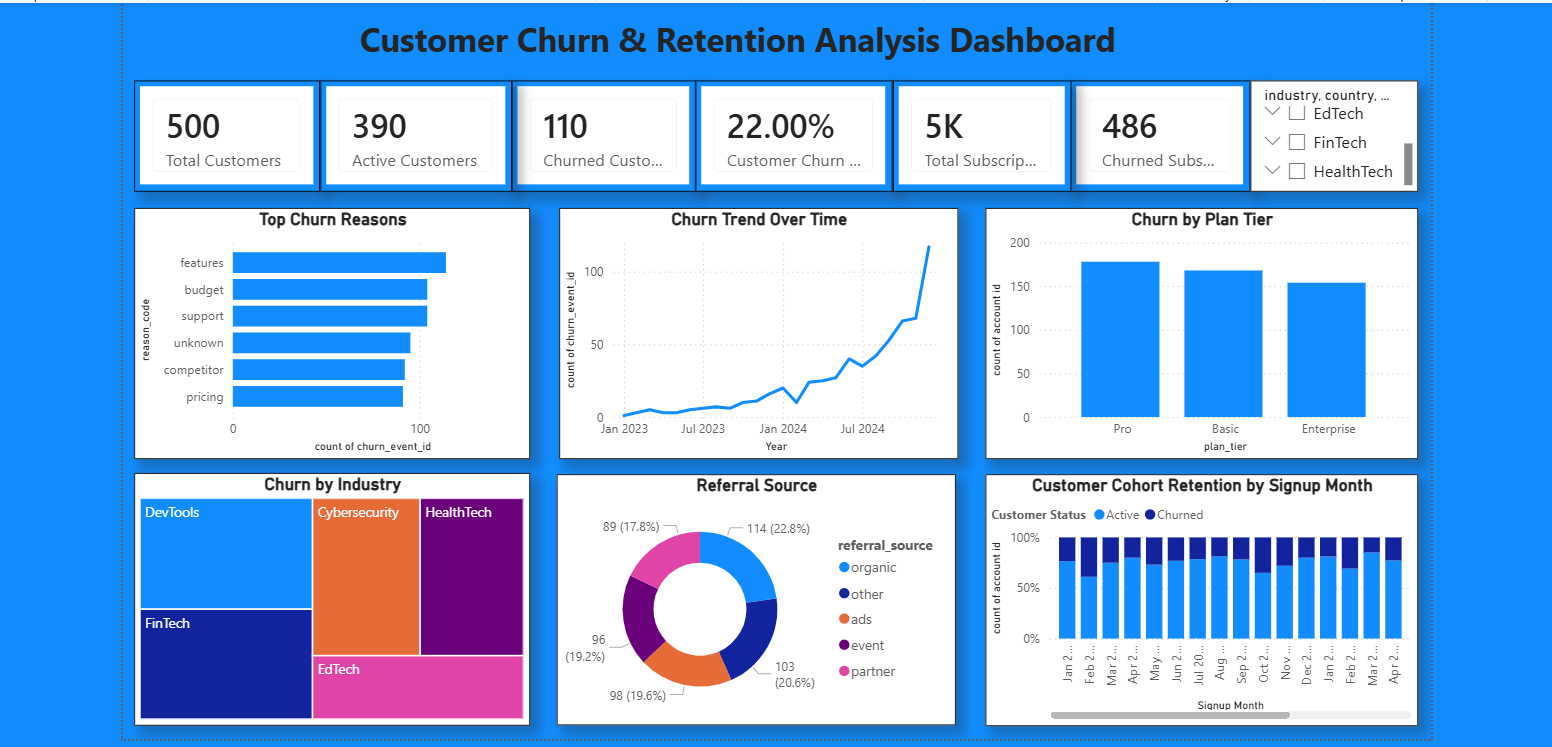

What the dashboard file says about the page in this screenshot:
{"tool":"powerbi","page":{"name":"Page 1","canvas":[1280,720],"ordinal":0},"visuals":[{"type":"cardVisual","fields":{"Data":["ravenstack_accounts.Subscription churned"]},"box":[927.1,75.7,175.7,108.6],"z":0},{"type":"cardVisual","fields":{"Data":["ravenstack_accounts.Total Customers"]},"box":[11.4,75.7,181.4,108.6],"z":1000},{"type":"cardVisual","fields":{"Data":["ravenstack_accounts.Churned Customers"]},"box":[380,75.7,180,108.6],"z":2000},{"type":"cardVisual","fields":{"Data":["ravenstack_accounts.Active Customers"]},"box":[192.9,75.7,187.1,108.6],"z":3000},{"type":"cardVisual","fields":{"Data":["ravenstack_accounts.Churn Rate %"]},"box":[560,75.7,192.9,108.6],"z":4000},{"type":"cardVisual","fields":{"Data":["ravenstack_accounts.Total Subscription"]},"box":[752.9,75.7,174.3,108.6],"z":5000},{"type":"barChart","title":"Top Churn Reasons","fields":{"Category":["ravenstack_churn_events.reason_code"],"Y":["ravenstack_accounts.count of churn_event_id"]},"box":[11.4,200,387.1,245.7],"z":6000},{"type":"lineChart","title":"Churn Trend Over Time","fields":{"Y":["ravenstack_accounts.count of churn_event_id"],"Category":["ravenstack_churn_events.churn_date.Variation.Date Hierarchy.Year","ravenstack_churn_events.churn_date.Variation.Date Hierarchy.Month"]},"box":[427.1,200,390,245.7],"z":7000},{"type":"columnChart","title":"Churn by Plan Tier","fields":{"Category":["ravenstack_accounts.plan_tier"],"Y":["ravenstack_accounts.count of account id"]},"box":[844.3,200,422.9,245.7],"z":8000},{"type":"treemap","title":"Churn by Industry","fields":{"Group":["ravenstack_accounts.industry"],"Values":["ravenstack_accounts.count of account id"]},"box":[11.4,460,387.1,247.1],"z":9000},{"type":"donutChart","title":"Referral Source","fields":{"Category":["ravenstack_accounts.referral_source"],"Y":["ravenstack_accounts.count of account id"]},"box":[424.3,461.4,390,245.7],"z":10000},{"type":"slicer","fields":{"Values":["ravenstack_accounts.industry","ravenstack_accounts.country","ravenstack_accounts.plan_tier","ravenstack_accounts.referral_source"]},"box":[1103,75.8,163.9,108.8],"z":11000},{"type":"textbox","box":[11,8.6,1162.9,53.8],"z":12000},{"type":"hundredPercentStackedColumnChart","title":"Customer Cohort Retention by Signup Month","fields":{"Category":["ravenstack_accounts.Signup Month"],"Y":["ravenstack_accounts.count of account id"],"Series":["ravenstack_accounts.Customer Status"]},"box":[844,461,423,246],"z":13000}]}

Visuals, with their boxes in screenshot pixels (x1, y1, x2, y2):
cardVisual - ravenstack_accounts.Subscription churned: left=1067, top=73, right=1247, bottom=185
cardVisual - ravenstack_accounts.Total Customers: left=129, top=73, right=315, bottom=185
cardVisual - ravenstack_accounts.Churned Customers: left=506, top=73, right=691, bottom=185
cardVisual - ravenstack_accounts.Active Customers: left=315, top=73, right=506, bottom=185
cardVisual - ravenstack_accounts.Churn Rate %: left=691, top=73, right=888, bottom=185
cardVisual - ravenstack_accounts.Total Subscription: left=888, top=73, right=1067, bottom=185
"Top Churn Reasons" barChart: left=129, top=201, right=525, bottom=452
"Churn Trend Over Time" lineChart: left=555, top=201, right=954, bottom=452
"Churn by Plan Tier" columnChart: left=982, top=201, right=1415, bottom=452
"Churn by Industry" treemap: left=129, top=467, right=525, bottom=720
"Referral Source" donutChart: left=552, top=468, right=951, bottom=720
slicer - ravenstack_accounts.industry x ravenstack_accounts.country: left=1247, top=74, right=1415, bottom=185
textbox: left=128, top=5, right=1319, bottom=60
"Customer Cohort Retention by Signup Month" hundredPercentStackedColumnChart: left=982, top=468, right=1415, bottom=720
